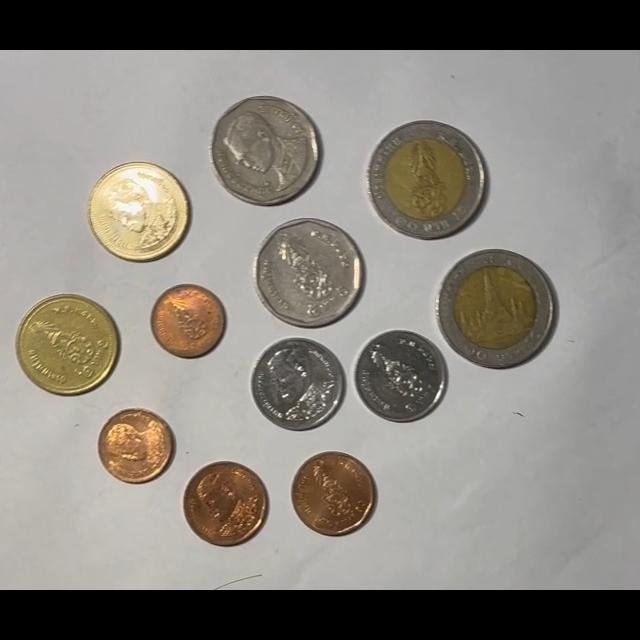1-baht: (353, 329, 448, 424), (250, 337, 345, 432)
10-baht: (436, 249, 556, 369), (366, 120, 486, 239)
2-baht: (15, 293, 119, 396), (87, 162, 189, 262)
25-satang: (98, 408, 175, 483), (151, 284, 225, 357)
5-baht: (210, 96, 321, 207), (254, 218, 364, 329)
50-satang: (182, 461, 269, 547), (291, 452, 377, 537)
